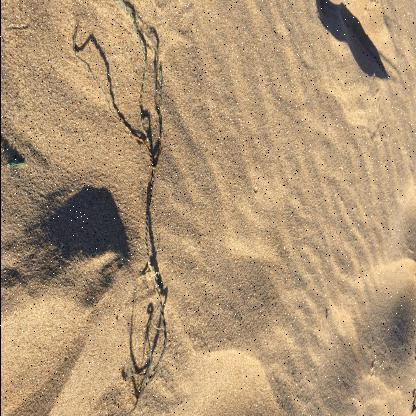other: (126, 119, 168, 380)
